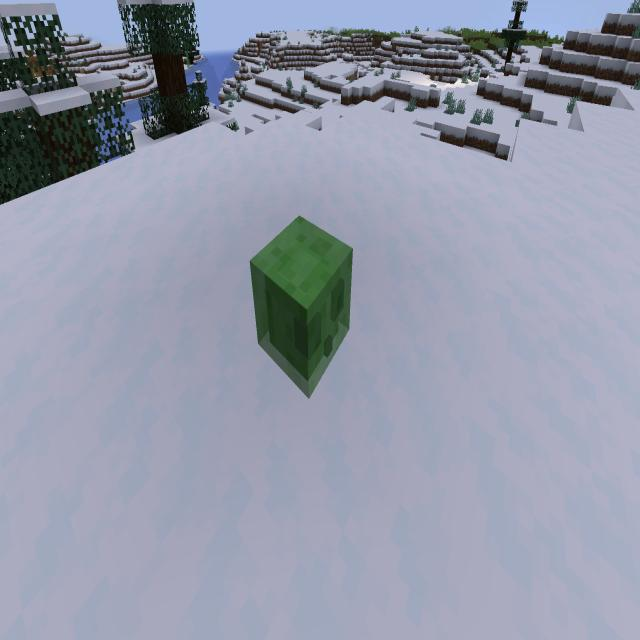Slime: (239, 201, 364, 412)
